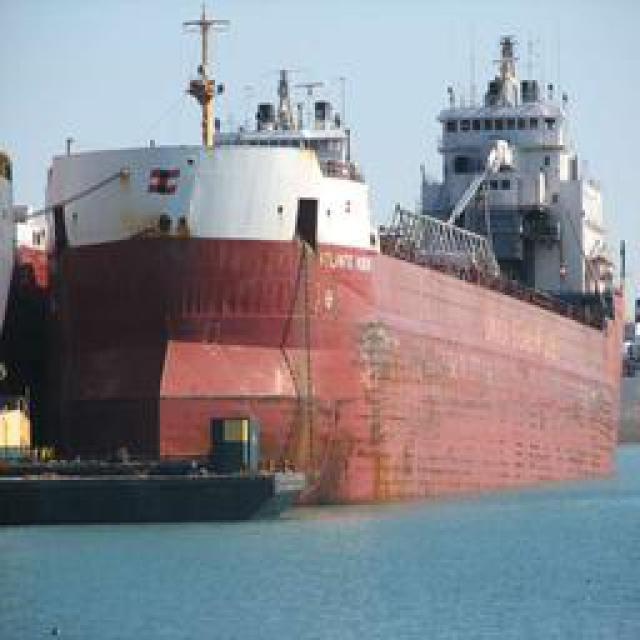Ship: (18, 19, 623, 514)
